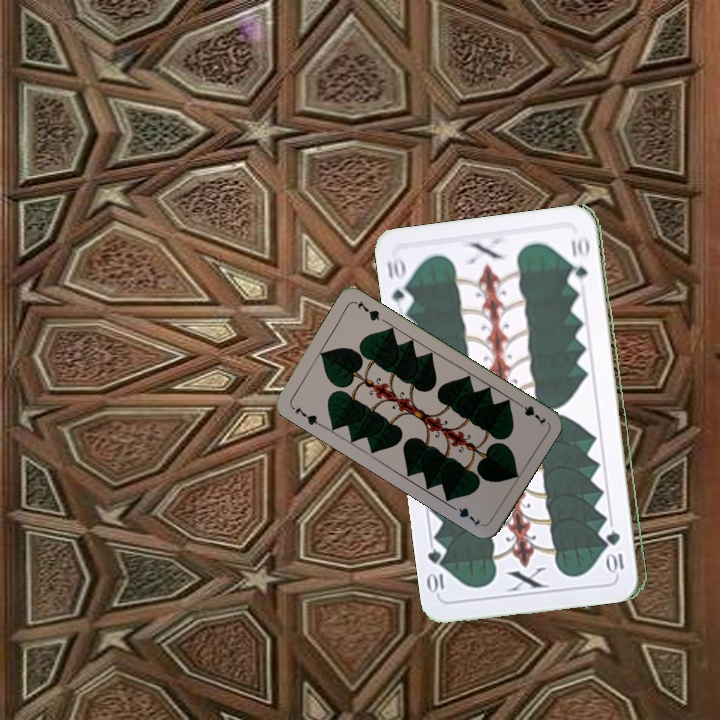G10: (383, 253, 415, 312), (606, 526, 627, 575)
G7: (512, 397, 549, 427), (287, 402, 324, 429)
